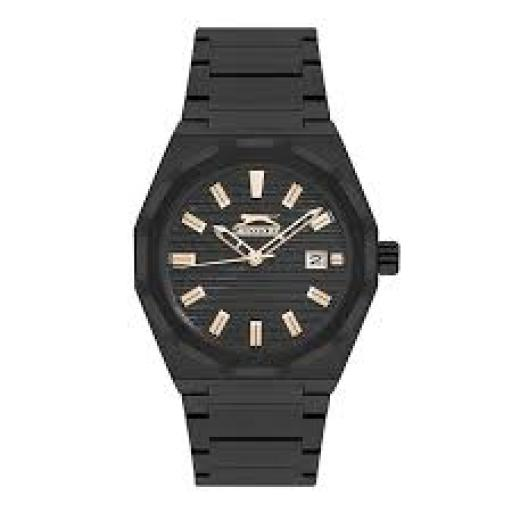KolSaati: (129, 18, 404, 497)
